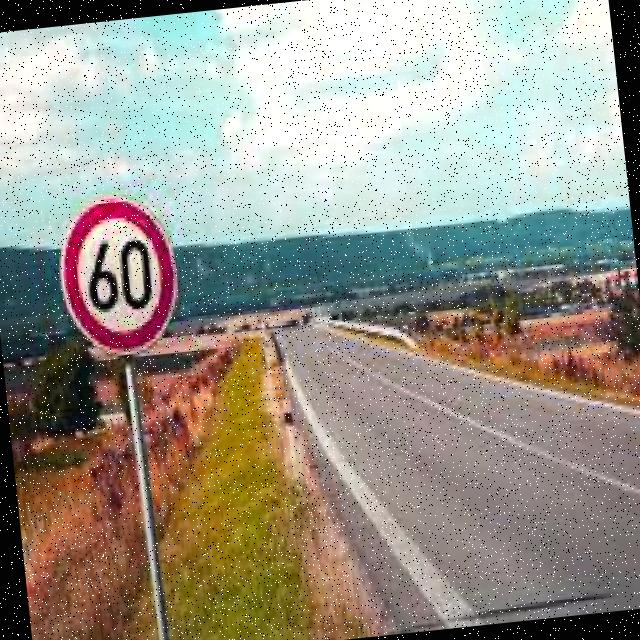Ograniczenie predkosci do 60: (48, 189, 188, 361)
